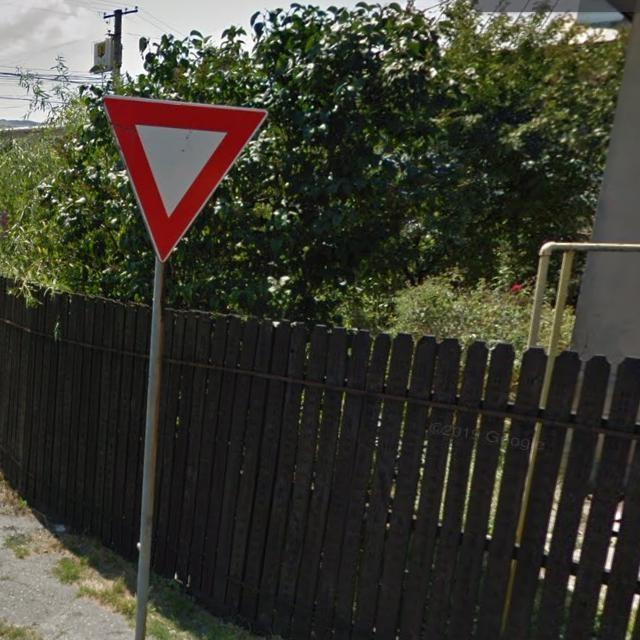prio_give_way: (90, 91, 266, 266)
